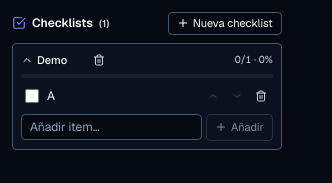
Test: TaskChecklistSection › rollback en toggle si el server falla
The width and height of the screenshot is (332, 183).
Click the checkbox named "A" at (32, 96), box x1=25 y1=89 x2=39 y2=103
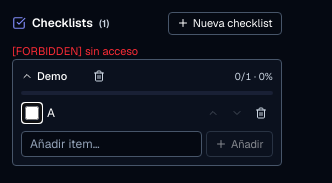
Expected: the checkbox named "A" is not checked, x1=25 y1=106 x2=39 y2=120
Expected: the message "[FORBIDDEN] sin acceso" is shown, x1=12 y1=44 x2=138 y2=58
